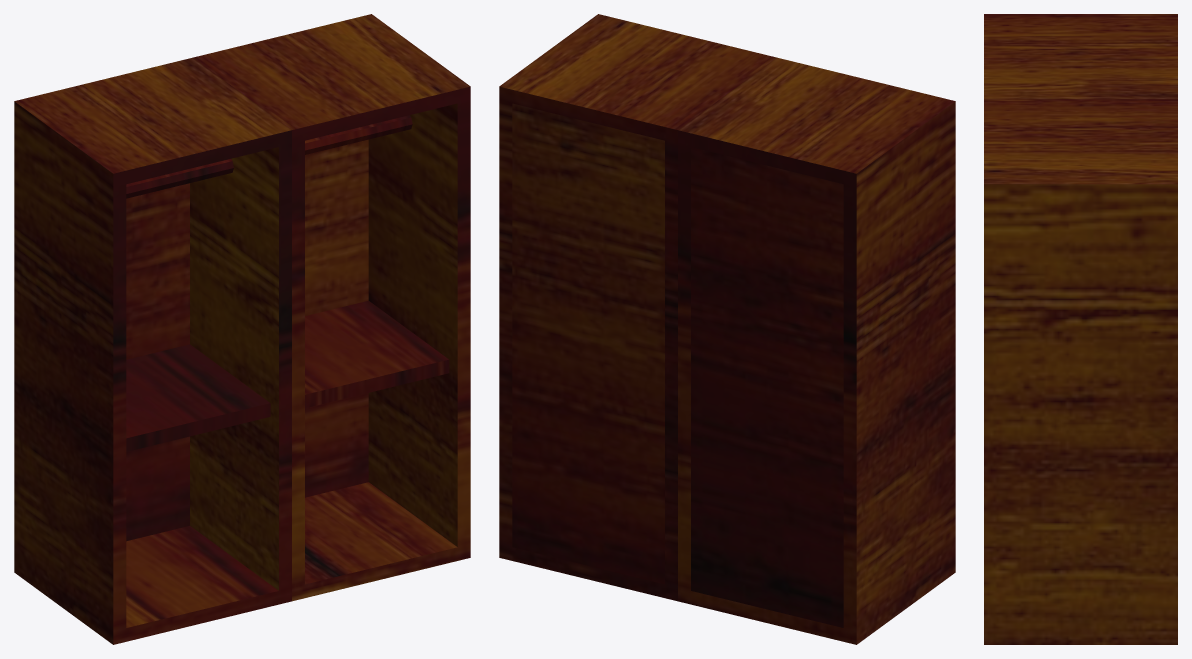
File: шкаф2.fbx
The picture shows the model from 3 angles, left to right: view 1: azimuth 30°, elevation 25°; view 2: azimuth 150°, elevation 25°; view 3: azimuth 270°, elevation 25°; orthographic projection. The views are drawn at different scales.
Visible parts, largest first — view 1: Cube; view 2: Cube; view 3: Cube.
Part boxes in pixels (x1=…): Cube: x1=14, y1=14, x2=470, y2=644; Cube: x1=499, y1=14, x2=955, y2=644; Cube: x1=984, y1=14, x2=1177, y2=644.
Bounding box in the file's own units: 161 × 202 × 77.17.
1 material, 1 textured.
